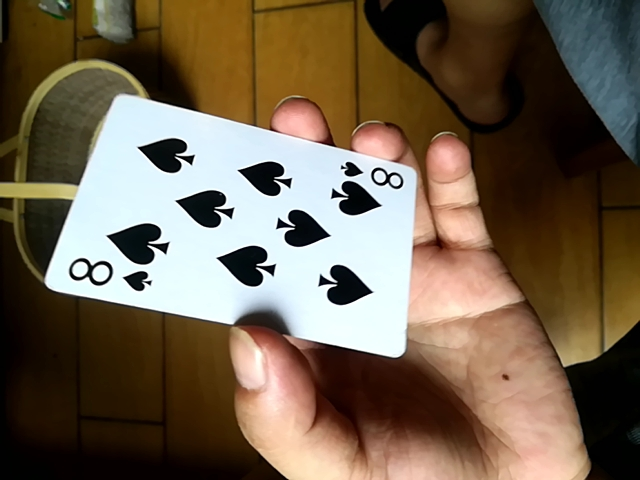ht 8: (44, 95, 419, 361)
